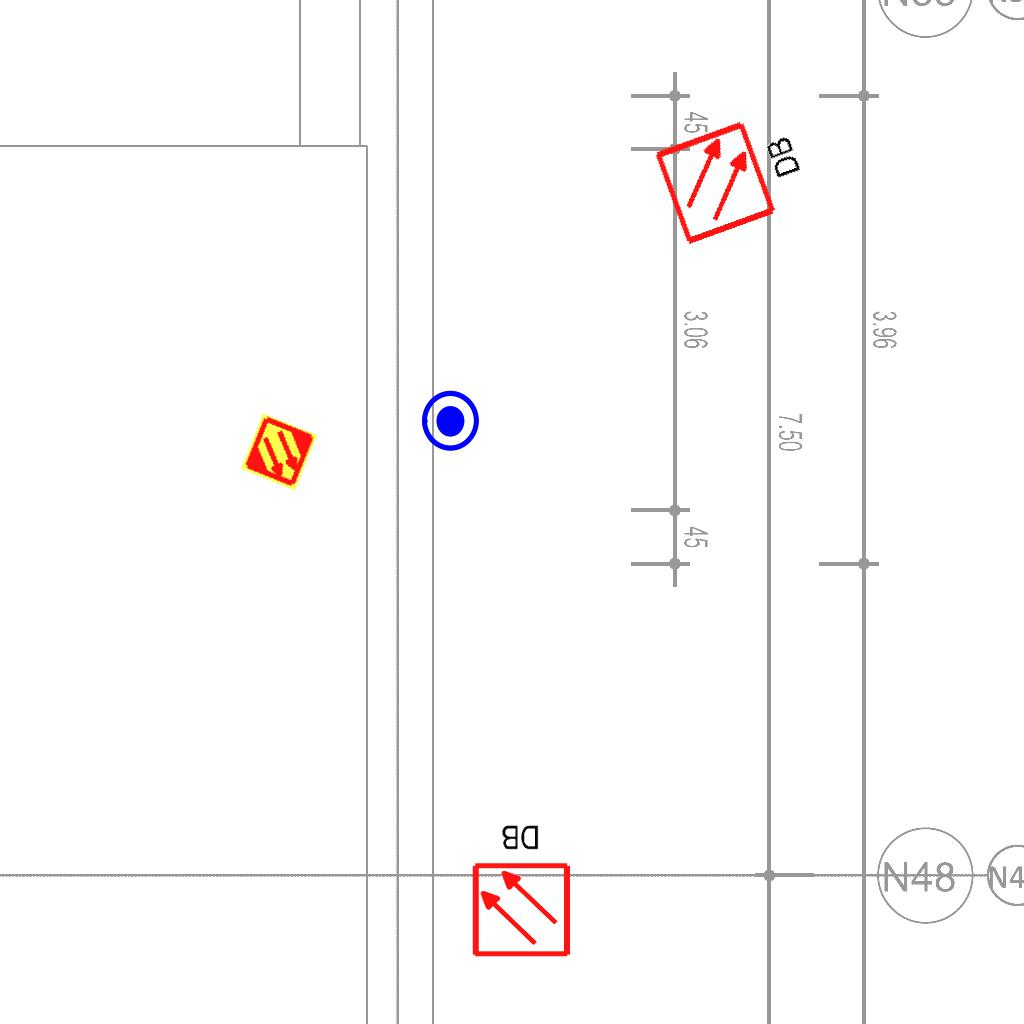ASR_Ansaugrauchmelder: (238, 411, 320, 493)
DB_Melder_in_Doppelboden_mit_Revisionsoeffnung_mind_40_x_40_cm: (644, 95, 824, 254), (463, 815, 577, 964)
Taster: (415, 388, 481, 454)
